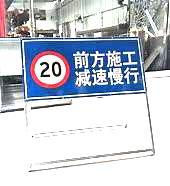sign: (21, 38, 147, 94)
